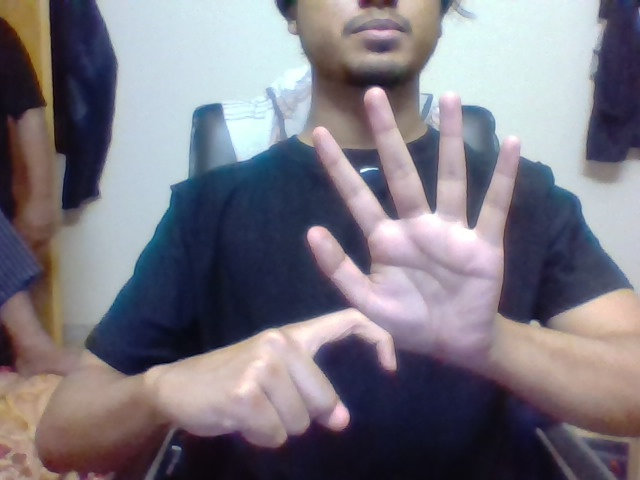R: (276, 301, 402, 437)
